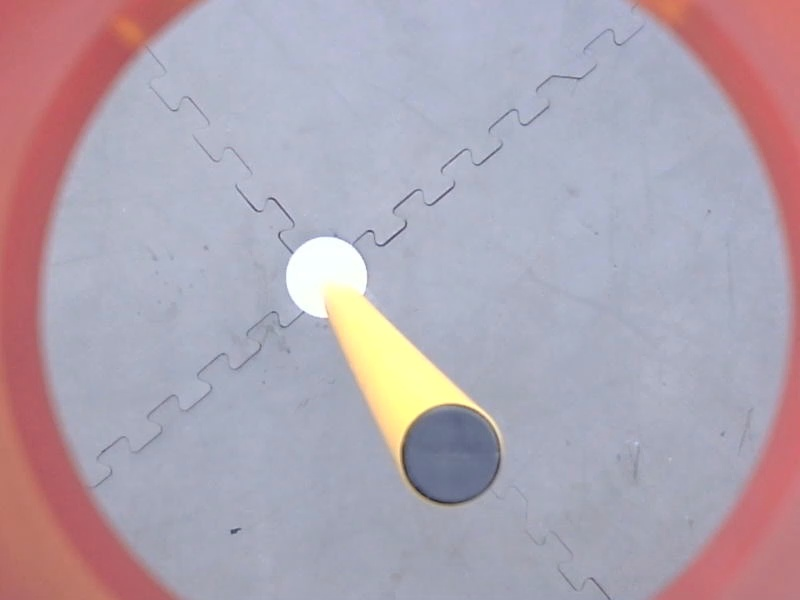tip: (395, 396, 508, 513)
